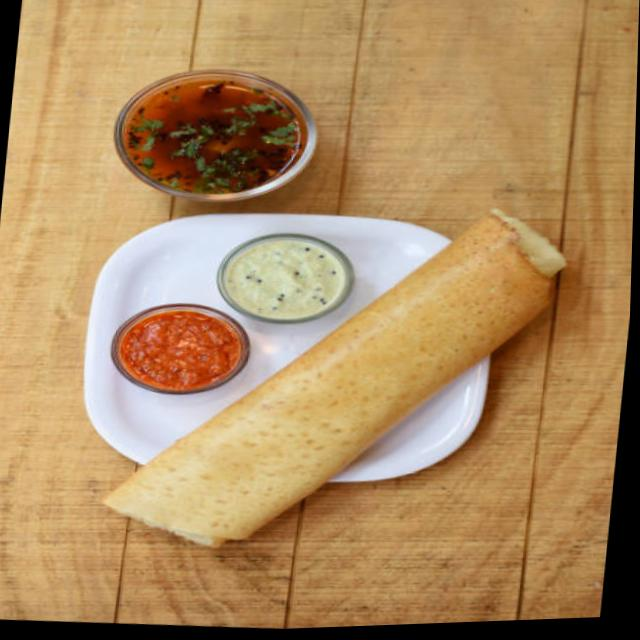DOSA: (96, 211, 582, 551)
RED CHUTNEY: (109, 305, 251, 396)
SAMBAR: (119, 72, 342, 198)
WHITE CHUTNEY: (217, 234, 352, 321)
